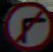Don't turn right: (14, 5, 46, 44)
